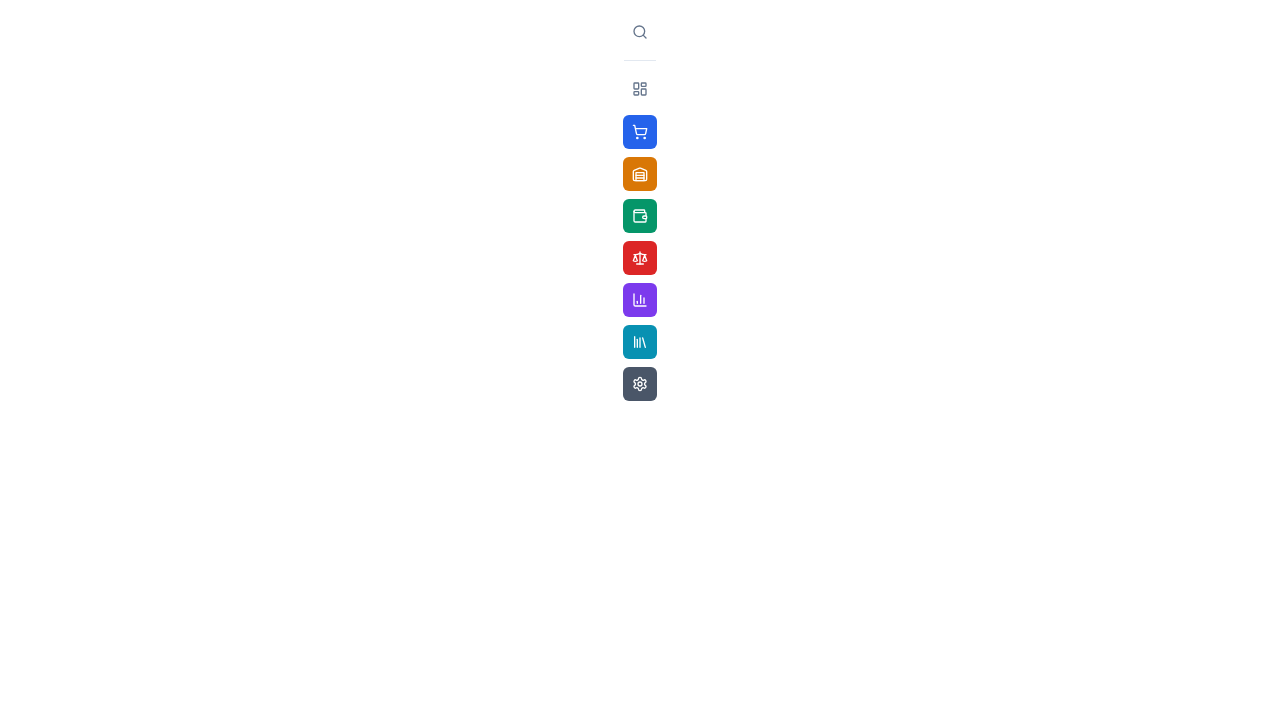
Test: SidebarRail › click opens the group flyout with its items and sections
Click the button named "Báo cáo".
click(640, 300)  # box left=623, top=283, right=657, bottom=317
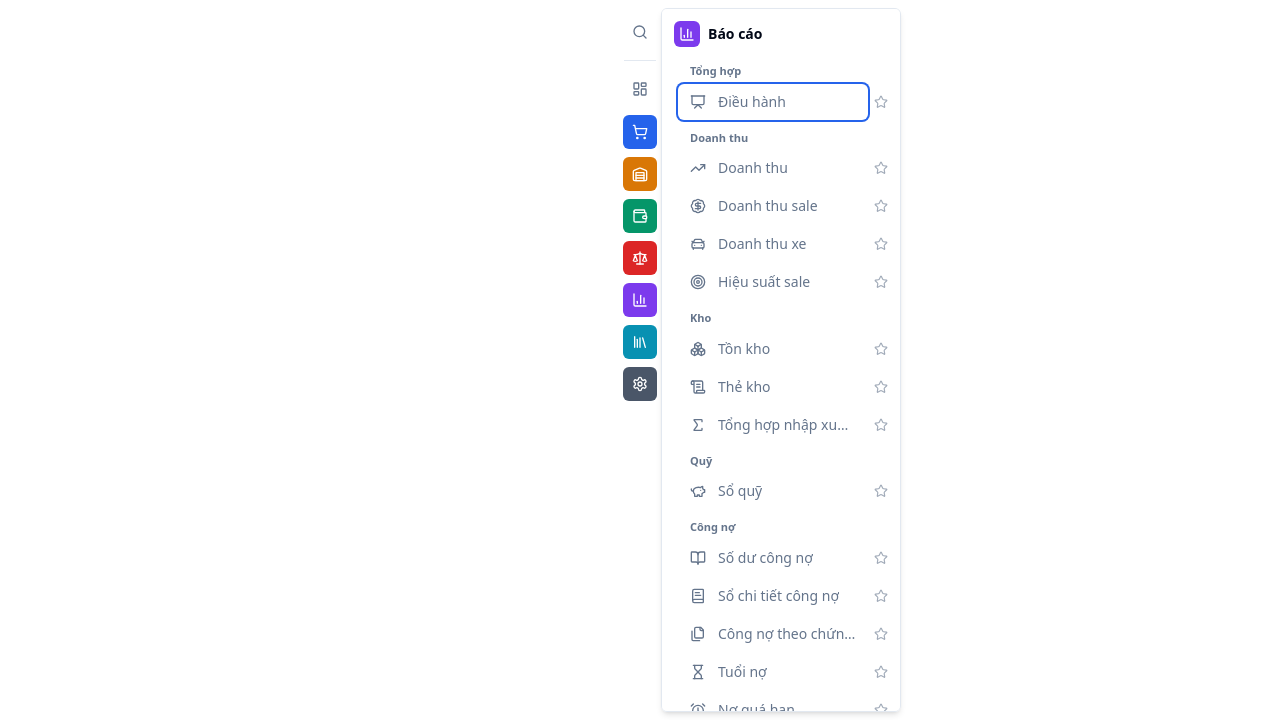
Expected: the link "Tuổi nợ" is shown, left=690, top=662, right=767, bottom=680
Expected: the headings read "Tổng hợp", "Doanh thu", "Kho", "Quỹ", "Công nợ", in this order, left=690, top=63, right=741, bottom=78; left=690, top=130, right=748, bottom=144; left=690, top=310, right=711, bottom=325; left=690, top=452, right=712, bottom=468; left=690, top=519, right=736, bottom=534
Expected: the button named "Ghim Tuổi nợ" is shown, left=870, top=660, right=892, bottom=682
